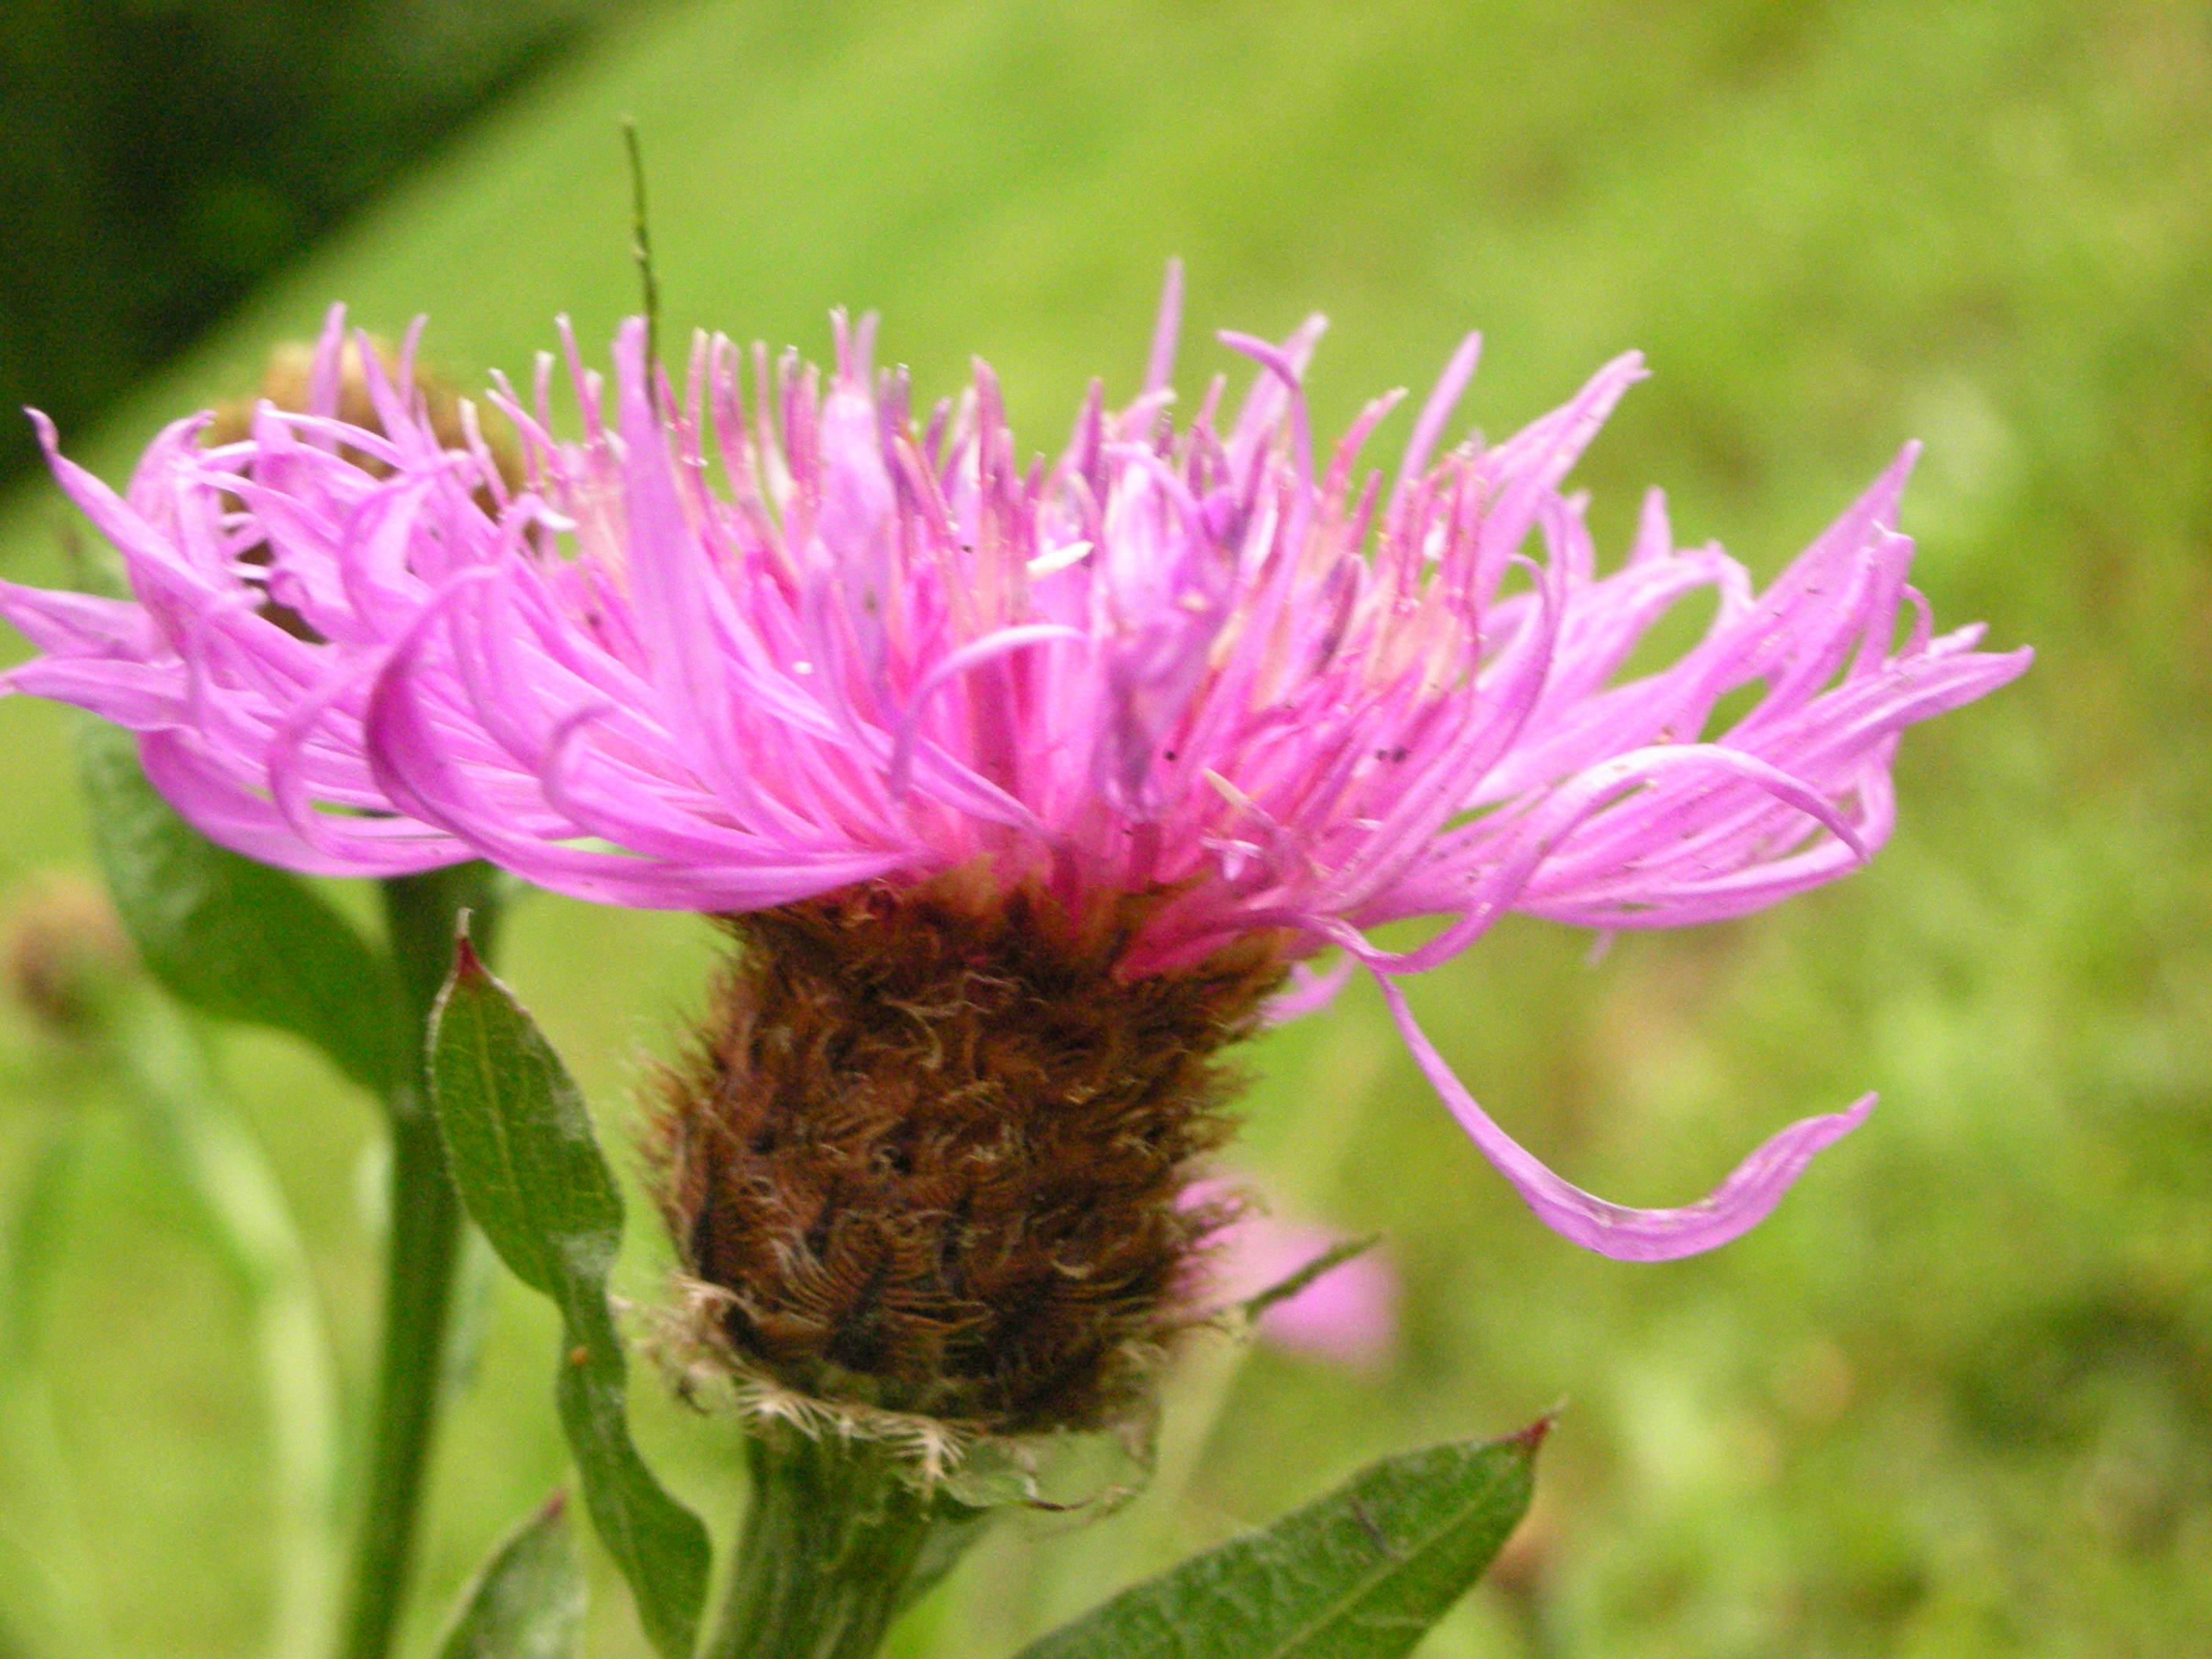thistle: (96, 319, 1942, 1429)
